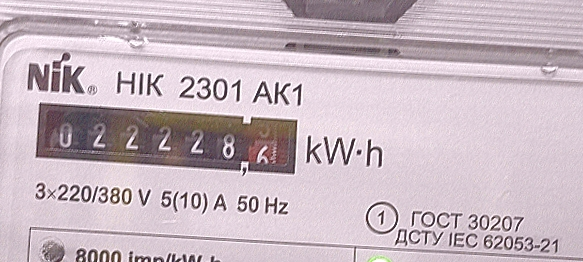0: (56, 120, 73, 150)
2: (89, 120, 109, 151), (188, 127, 207, 157), (123, 122, 141, 152), (155, 124, 174, 152)
5: (256, 119, 272, 140)
6: (254, 142, 271, 164)
8: (220, 132, 237, 161)
screen: (26, 91, 308, 184)
